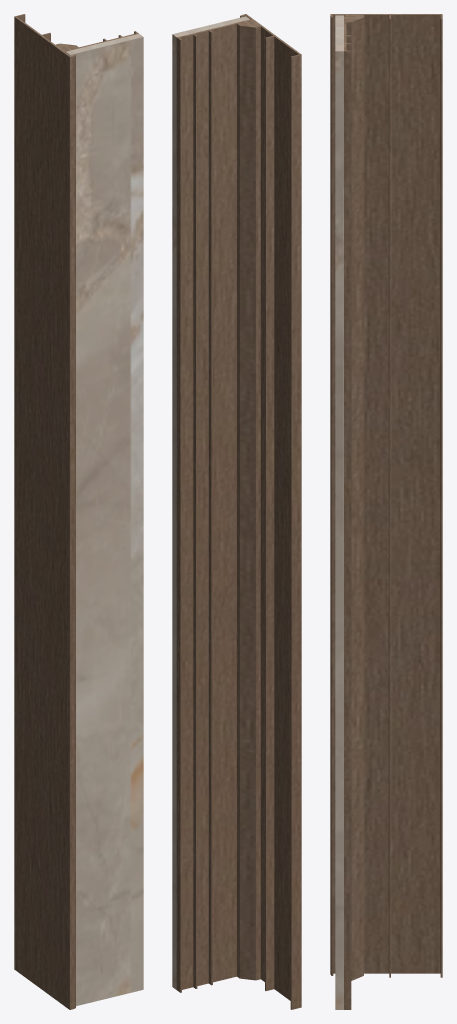
The model's file is LFP-597.glb.
The picture shows the model from 3 angles, left to right: view 1: azimuth 30°, elevation 25°; view 2: azimuth 210°, elevation 25°; view 3: azimuth 270°, elevation 25°; orthographic projection.
Parts seen in each view (by area): view 1: Object_node, ExtrSplGeo; view 2: ExtrSplGeo, Object_node; view 3: ExtrSplGeo, Object_node.
Boxes of the visible parts, x1,y1,x2,y2 form: Object_node: [65, 34, 143, 1006]; ExtrSplGeo: [14, 14, 138, 1009]; ExtrSplGeo: [176, 14, 301, 1009]; Object_node: [172, 16, 250, 989]; ExtrSplGeo: [330, 14, 442, 1009]; Object_node: [335, 15, 343, 1009].
Size of the model in its own units: 0.06 by 0.717 by 0.076.
2 materials, 2 textured.
